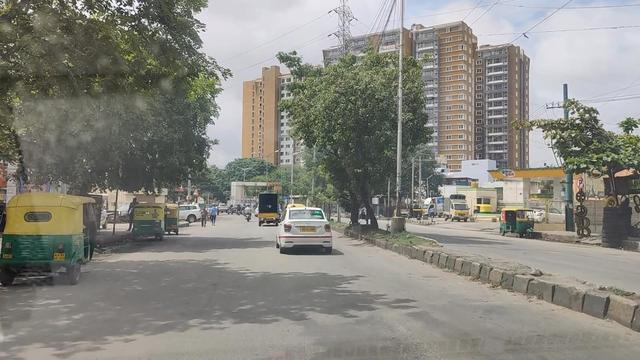LMV: (11, 192, 100, 273), (278, 201, 329, 248)
